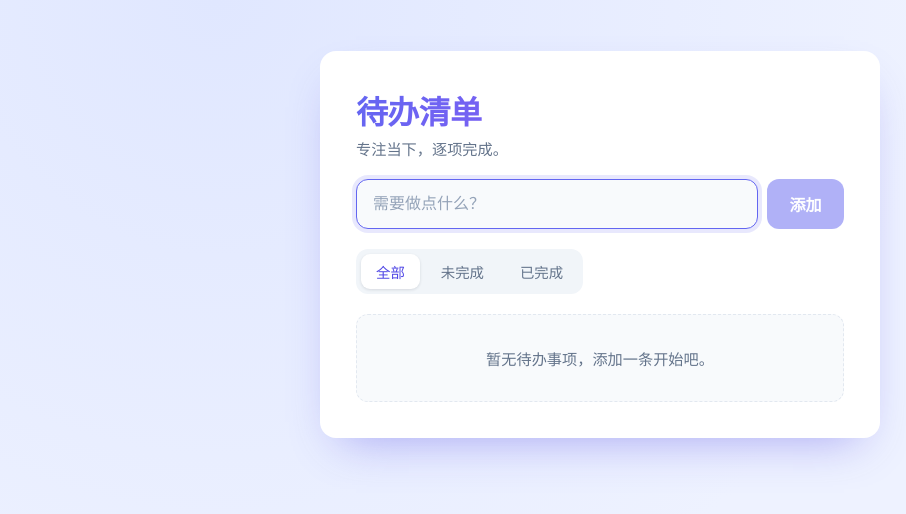
App › persists todos to localStorage
In the field named "新待办事项": (557, 204) [356,179,758,229], type "记得保存"
Then press Enter
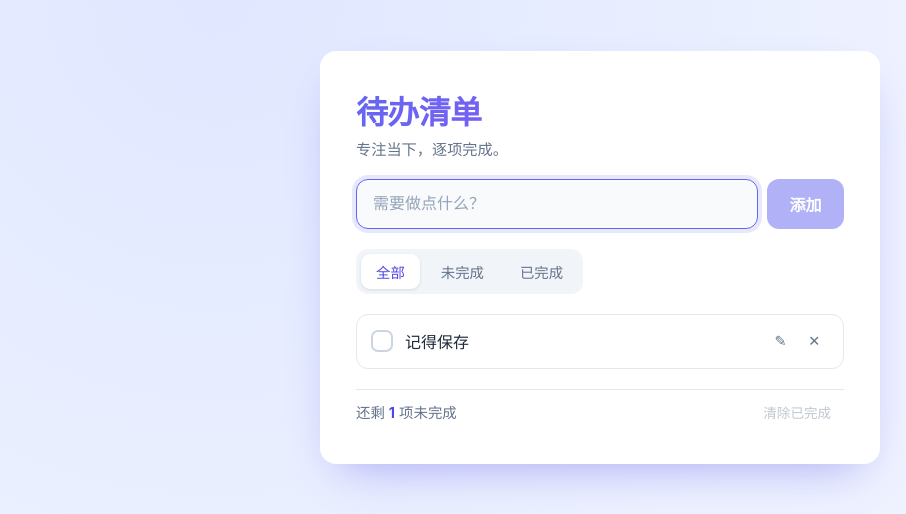
Check: the text "记得保存" is shown, box [405,332,469,352]
